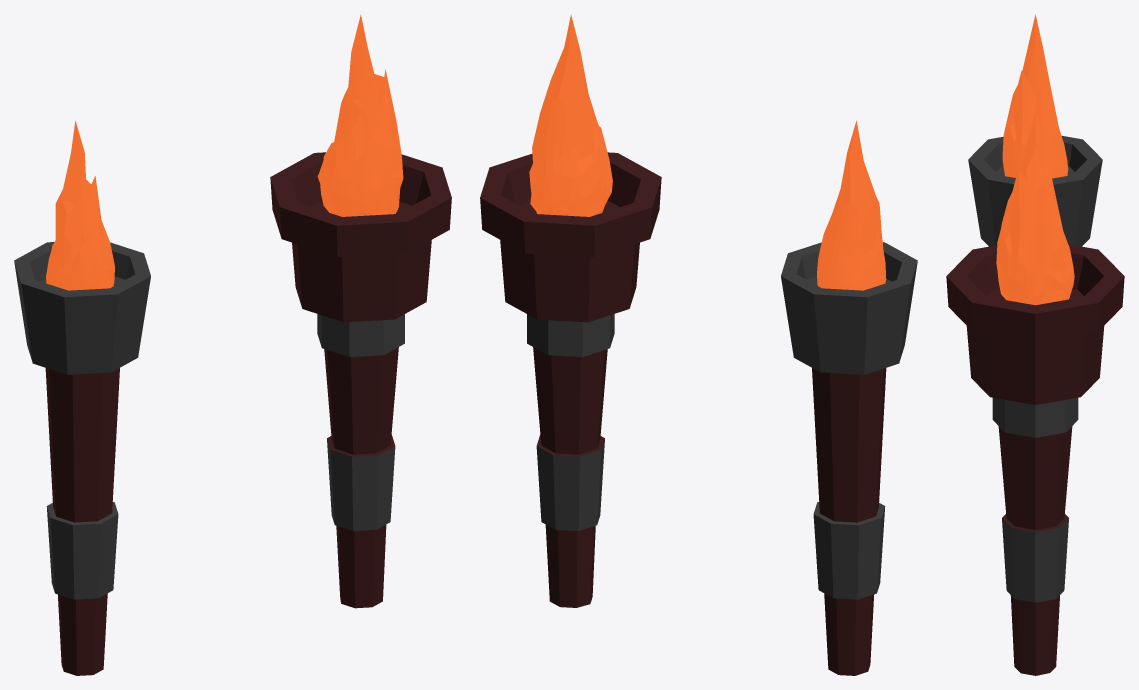
The model's file is low_poly_torch_pair_with..._extra-sharp_flames.glb.
The picture shows the model from 3 angles, left to right: view 1: azimuth 30°, elevation 25°; view 2: azimuth 150°, elevation 25°; view 3: azimuth 270°, elevation 25°; orthographic projection. The views are drawn at different scales.
Parts seen in each view (by area): view 1: Torch 2, Torch 1, Torch 2 / Flame, Torch 1 / Flame; view 2: Torch 2, Torch 1, Torch 2 / Flame, Torch 1 / Flame; view 3: Torch 2, Torch 2 / Flame, Torch 1, Torch 1 / Flame.
Part boxes in pixels (<box>): Torch 2: <box>270,152,451,608</box>; Torch 1: <box>14,242,150,675</box>; Torch 2 / Flame: <box>317,14,403,216</box>; Torch 1 / Flame: <box>46,120,114,290</box>; Torch 2: <box>480,152,661,607</box>; Torch 1: <box>781,242,917,675</box>; Torch 2 / Flame: <box>529,14,612,216</box>; Torch 1 / Flame: <box>817,120,886,290</box>; Torch 2: <box>946,244,1124,675</box>; Torch 2 / Flame: <box>996,112,1074,305</box>; Torch 1: <box>968,136,1102,246</box>; Torch 1 / Flame: <box>1002,14,1068,178</box>.
Size of the model in its own units: 0.9936 by 1.32 by 0.3838.
